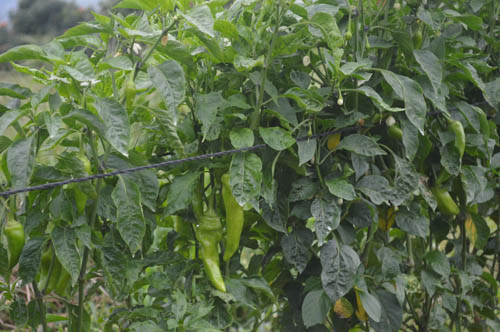ChiliPepper: (221, 172, 249, 262), (198, 214, 226, 291)
